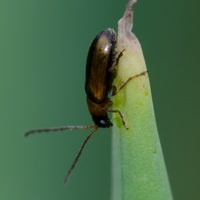insect: (25, 28, 147, 183)
